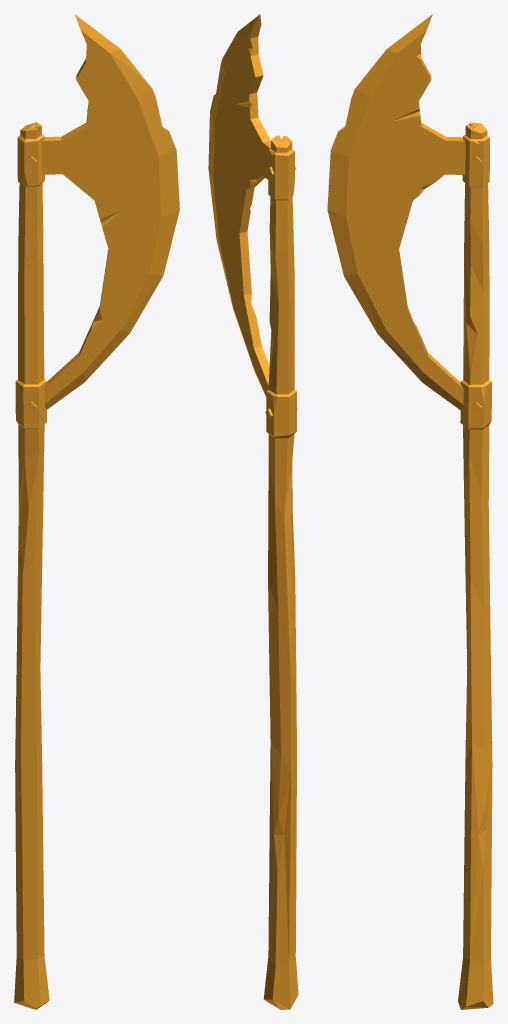
The model's file is SM_Bardiche_A_Fantasy.fbx.
3 views of the same model, side by side, from view 1: azimuth 90°, elevation 25°; view 2: azimuth 210°, elevation 25°; view 3: azimuth 270°, elevation 25° (orthographic).
Visible parts, largest first — view 1: bardiche-a-fantasy; view 2: bardiche-a-fantasy; view 3: bardiche-a-fantasy.
Boxes of the visible parts, left/top/right/bottom form: bardiche-a-fantasy: left=14, top=14, right=179, bottom=1009; bardiche-a-fantasy: left=208, top=14, right=298, bottom=1009; bardiche-a-fantasy: left=327, top=14, right=493, bottom=1009.
Size of the model in its own units: 0.0402 by 1.37 by 0.2074.
